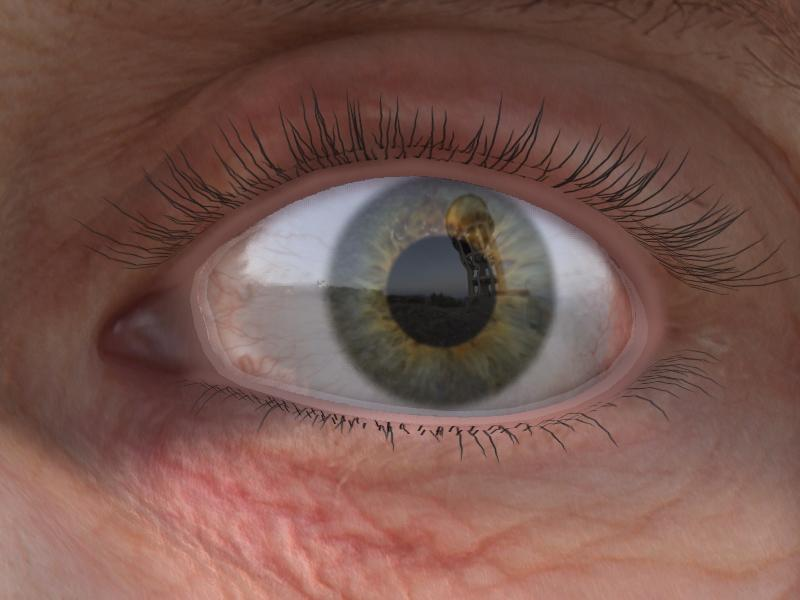eye: (328, 177, 559, 403)
